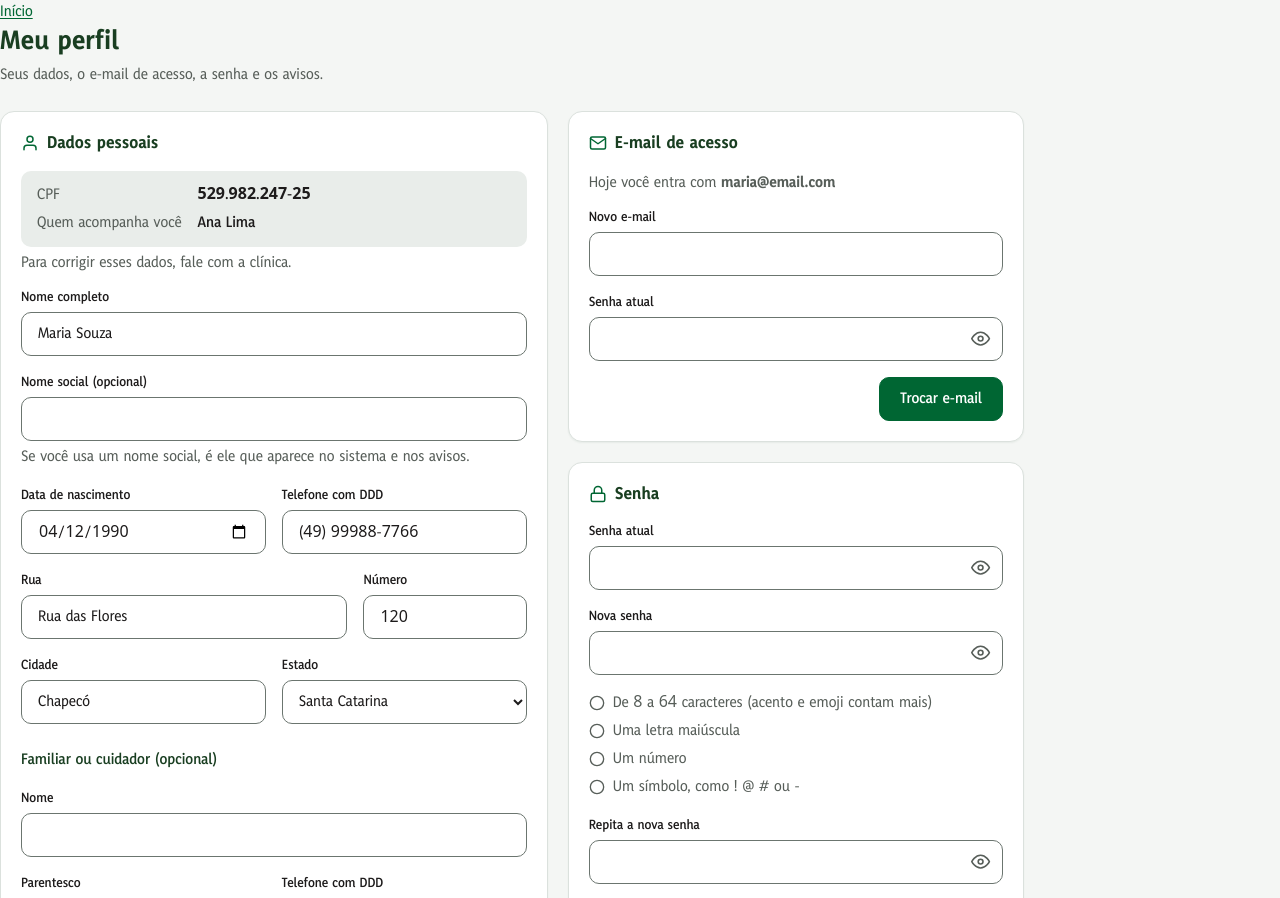
Test: Profile › sair com mudanca n salva › o q ja foi salvo n pergunta, e mudar de novo dps de salvar volta a perguntar
Step 1. Replace the text in the field labelled "Cidade" with "Xaxim " → (143, 702), box [21,680,266,724]
(page scrolled)
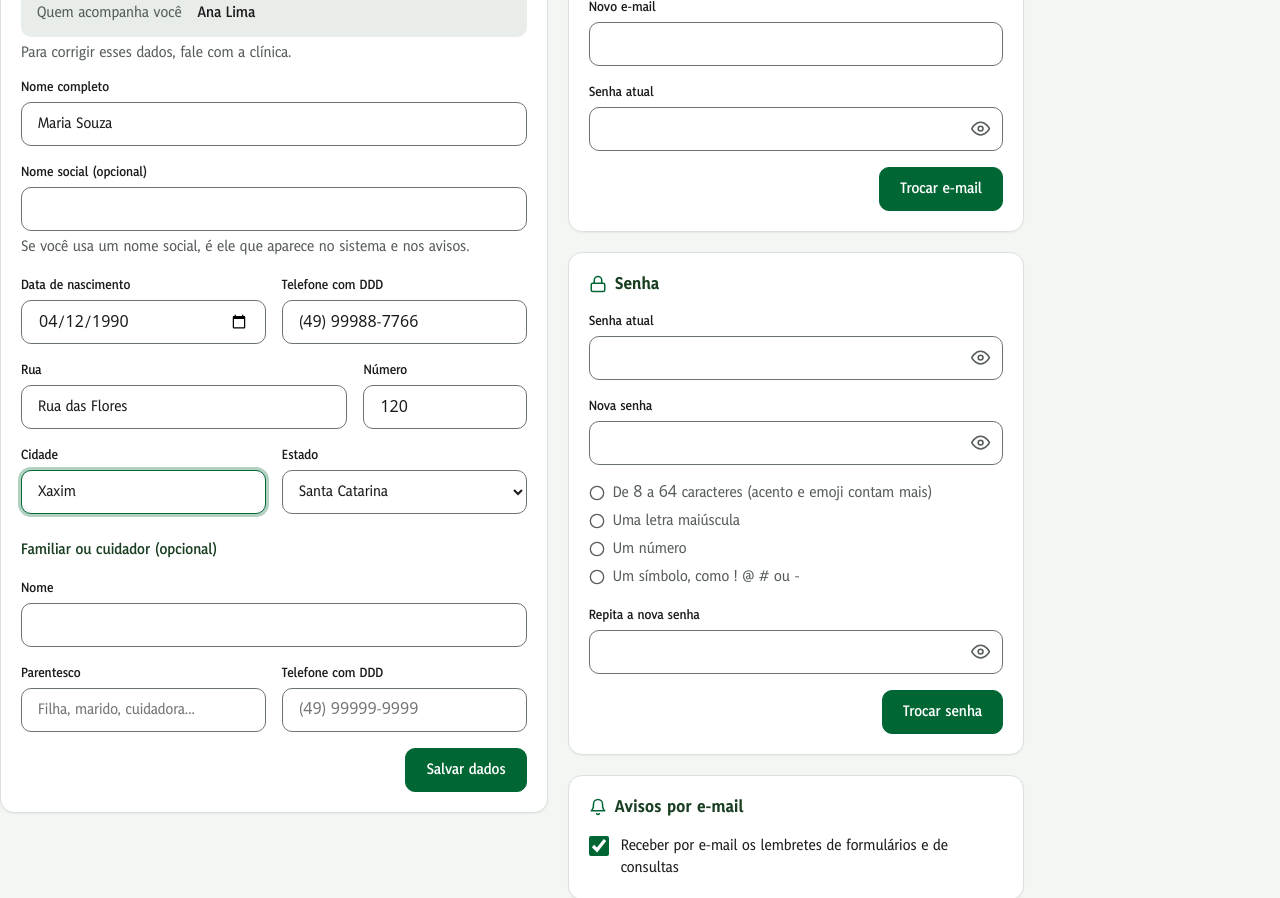
Step 2. Click the button "Salvar dados" → (466, 770), box [406,748,527,792]
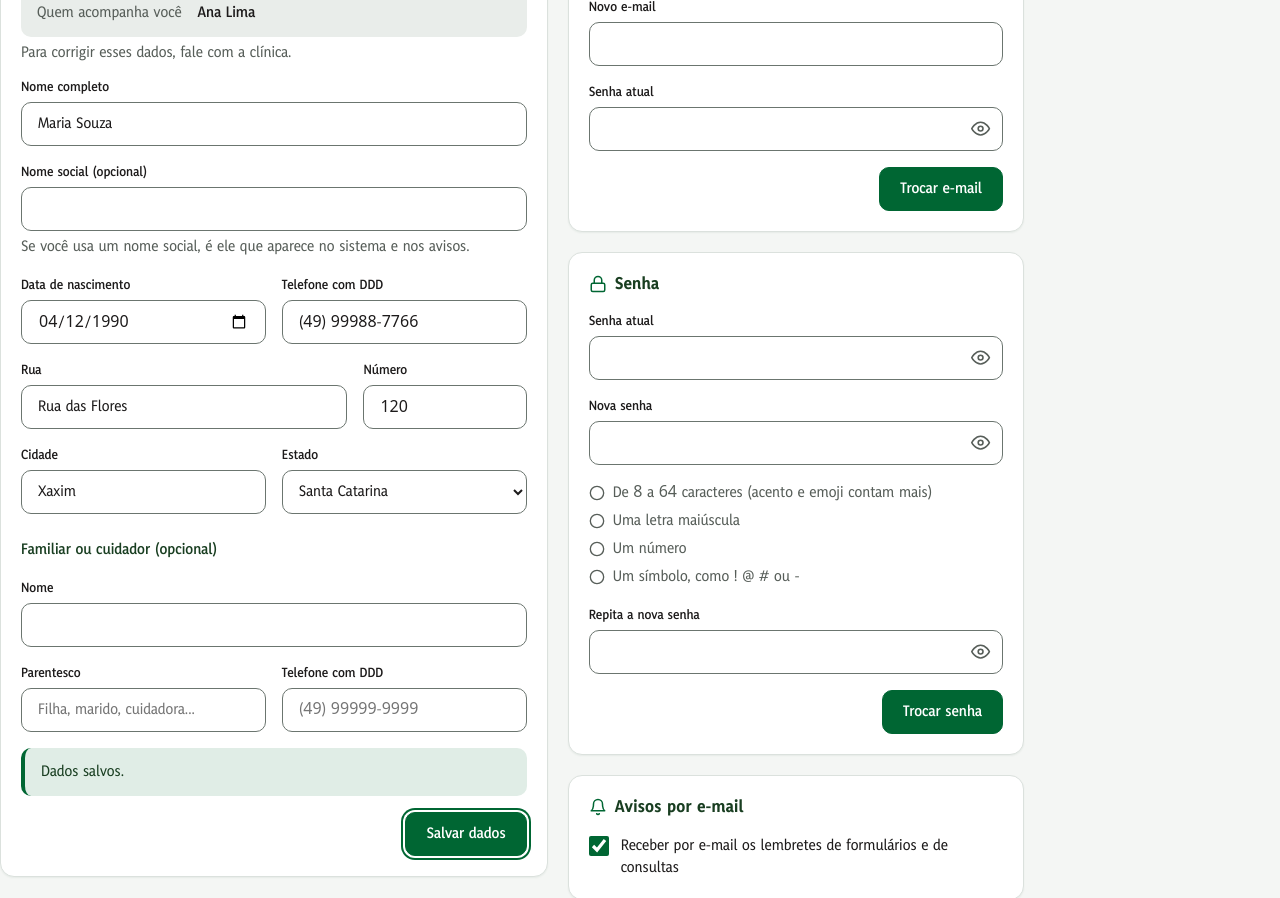
Result: the text "Dados salvos." is shown at [21,748,527,796]
Step 3. Type "zinho" into the field labelled "Cidade" → (143, 492), box [21,470,266,514]
(page scrolled)
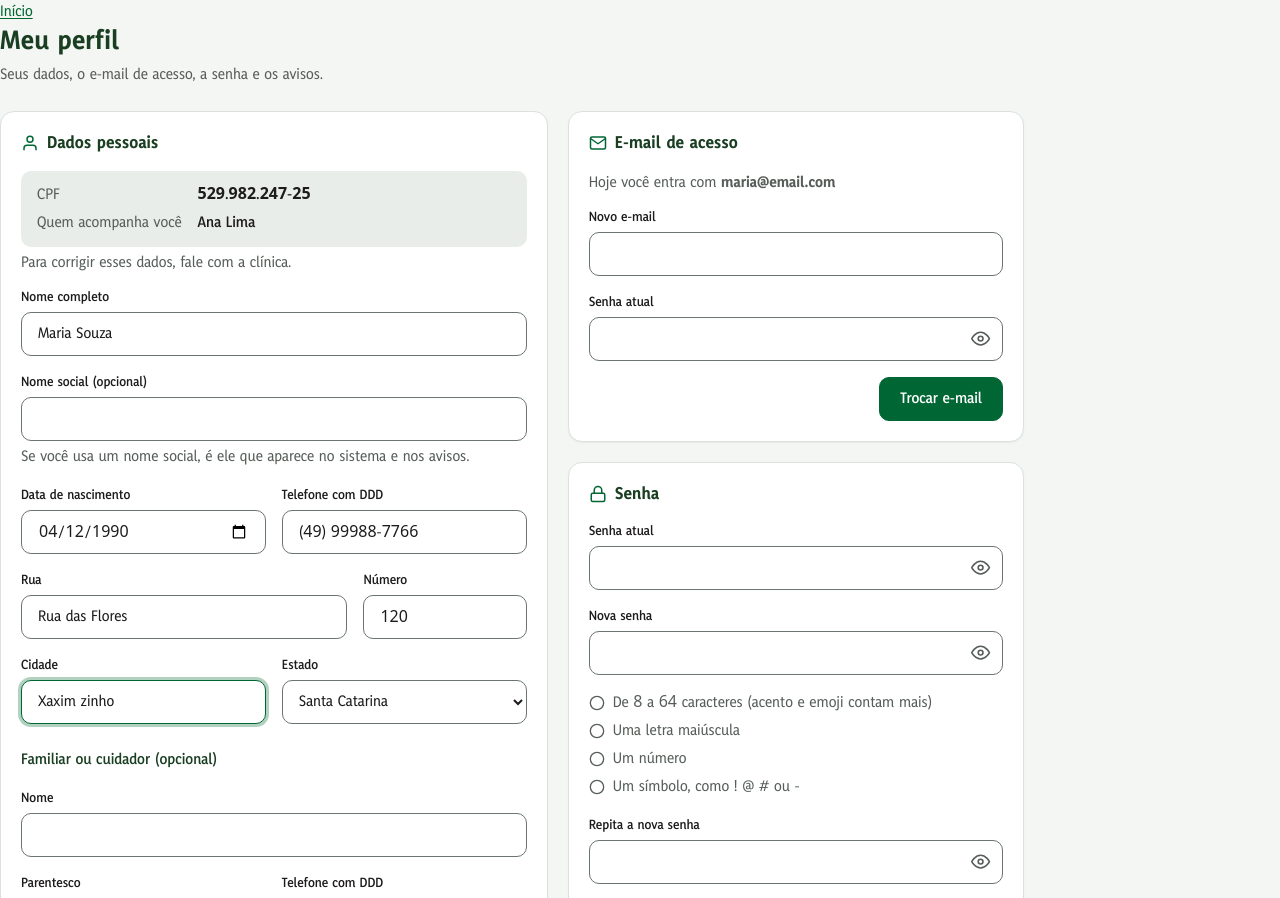
Step 4. Click the link "Início" → (16, 12), box [0,1,33,22]
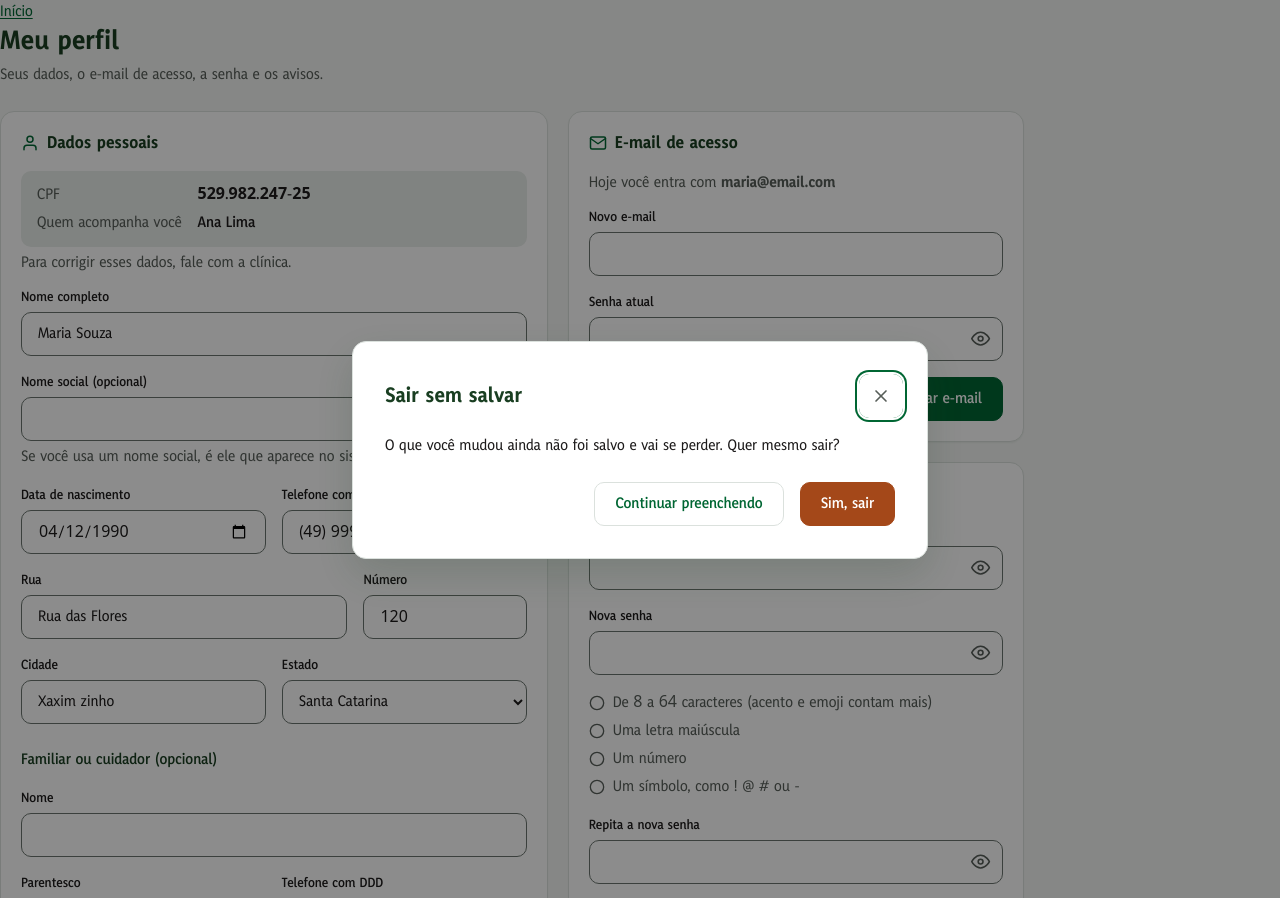
Result: the dialog "Sair sem salvar" is shown at [352,341,928,559]
